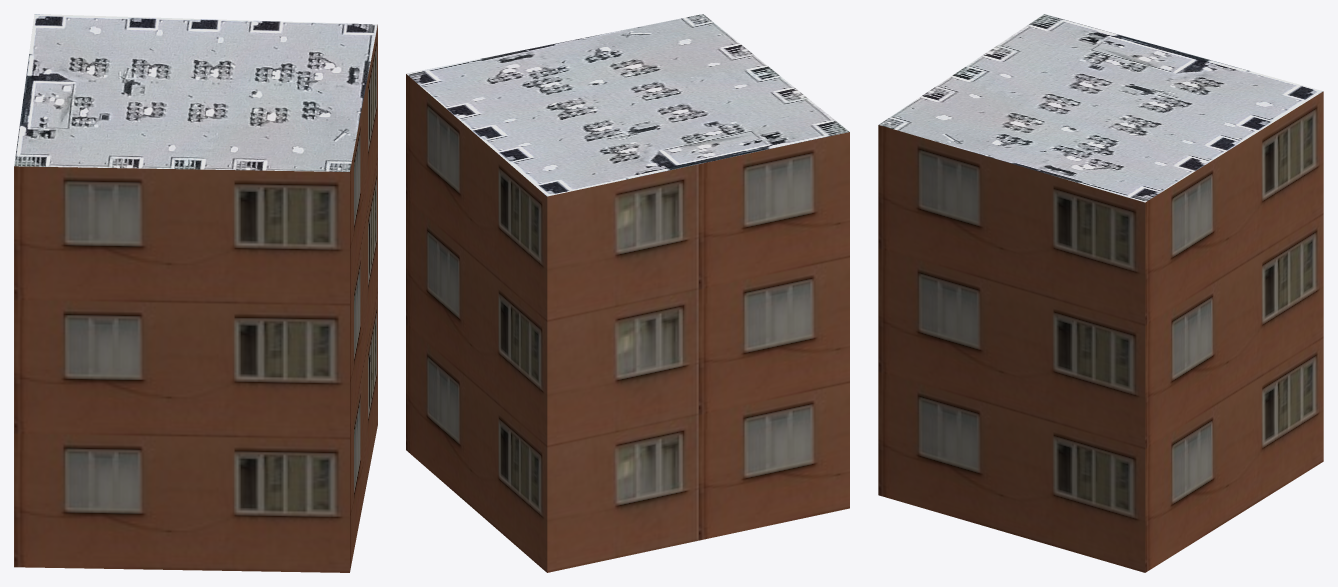
File: ResTex__2043.fbx
The picture shows the model from 3 angles, left to right: view 1: azimuth 30°, elevation 25°; view 2: azimuth 150°, elevation 25°; view 3: azimuth 270°, elevation 25°; orthographic projection. The views are drawn at different scales.
Parts seen in each view (by area): view 1: CityEngineMaterial_20_m, CityEngineMaterial_8_m; view 2: CityEngineMaterial_20_m, CityEngineMaterial_8_m; view 3: CityEngineMaterial_20_m, CityEngineMaterial_8_m.
Boxes of the visible parts, x1=… form: CityEngineMaterial_20_m: x1=14, y1=25, x2=377, y2=572; CityEngineMaterial_8_m: x1=14, y1=14, x2=377, y2=171; CityEngineMaterial_20_m: x1=406, y1=74, x2=849, y2=572; CityEngineMaterial_8_m: x1=406, y1=14, x2=849, y2=196; CityEngineMaterial_20_m: x1=878, y1=91, x2=1323, y2=572; CityEngineMaterial_8_m: x1=879, y1=14, x2=1322, y2=202.
Bounding box in the file's own units: 9.83 × 9 × 9.8.
Materials: 2 (2 with a texture image).
